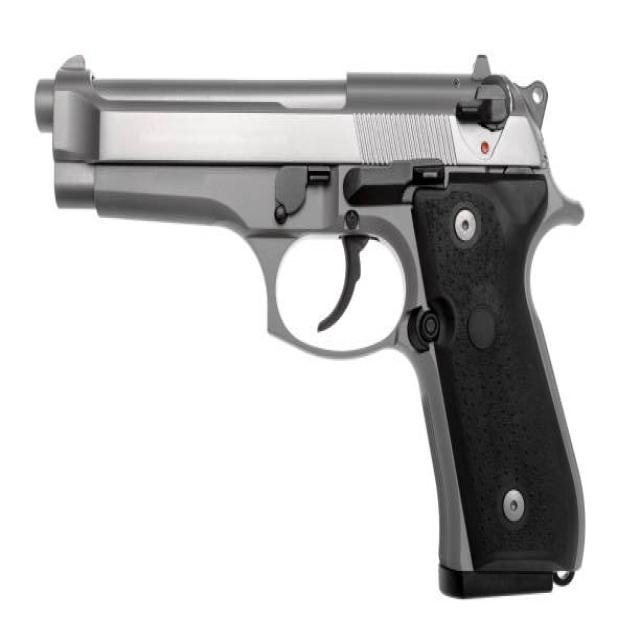pistol: (31, 48, 592, 607)
